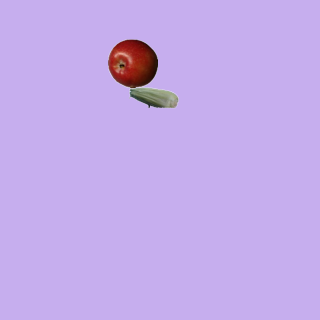Apple Braeburn: (107, 38, 157, 88)
Corn Husk: (128, 72, 178, 122)
